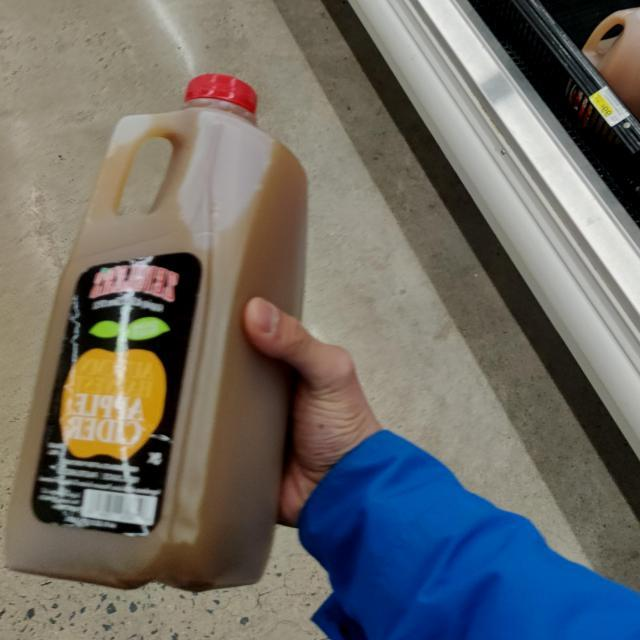Juice: (2, 74, 300, 584), (562, 0, 640, 143)
